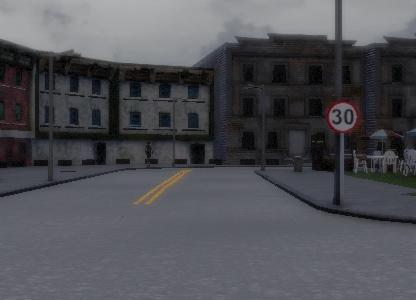Speed_30: (328, 99, 360, 135)
